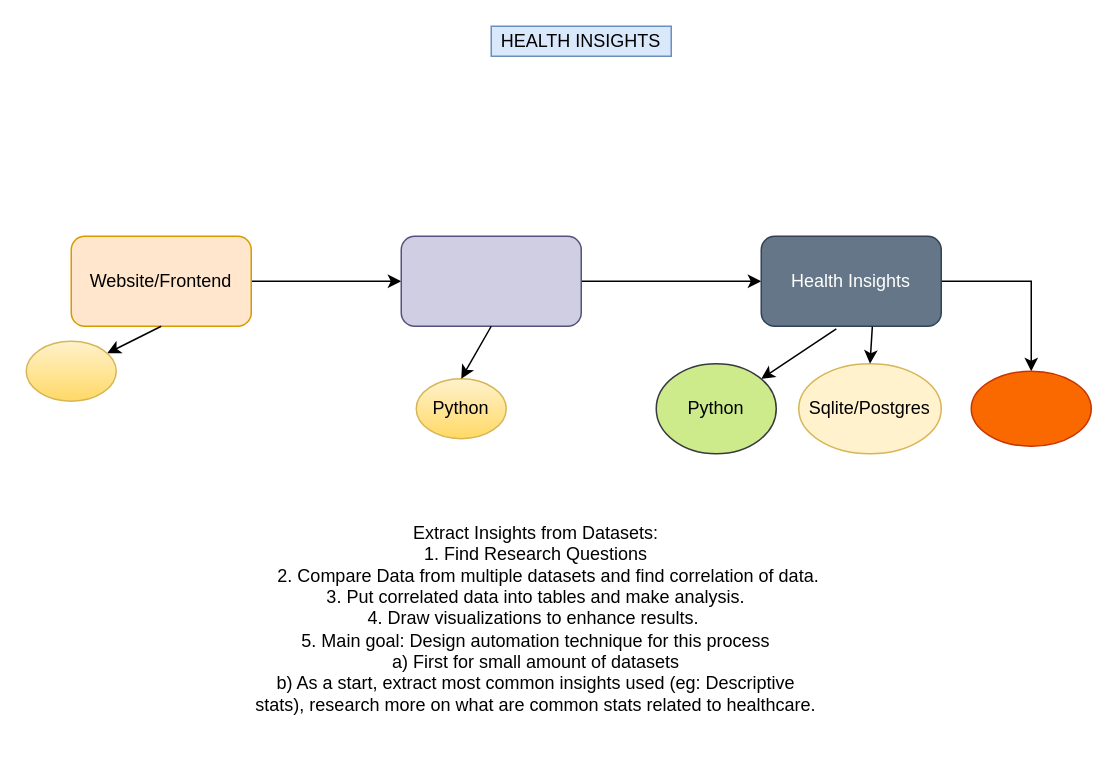
The diagram is 1118 pixels wide and 758 high, and some of its shapes have lost their labels. The shapes that lost their labels are listed below. From the top down, each one's centre as x and y in pixels, then its label:
At (x=490, y=280): "Search Engine/Web API".
At (x=70, y=370): "React".
At (x=1030, y=408): "Visualizations".
